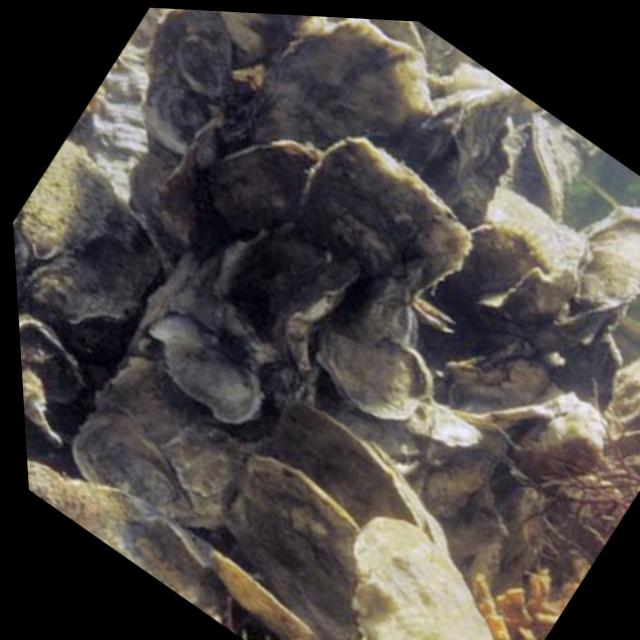Oyster-Closed: (404, 92, 521, 188), (399, 308, 420, 350)
Oyster-Indeterminate: (76, 361, 313, 527), (298, 140, 472, 344), (27, 463, 225, 627), (219, 21, 429, 156), (354, 523, 498, 640), (144, 9, 236, 153), (20, 236, 161, 324), (318, 323, 431, 420), (24, 139, 115, 256), (204, 141, 322, 227), (449, 226, 549, 306), (576, 203, 640, 306), (215, 11, 317, 71), (531, 114, 571, 220)
Oyster-Open: (265, 406, 456, 559), (213, 459, 361, 640), (604, 361, 640, 459), (413, 298, 455, 332)
